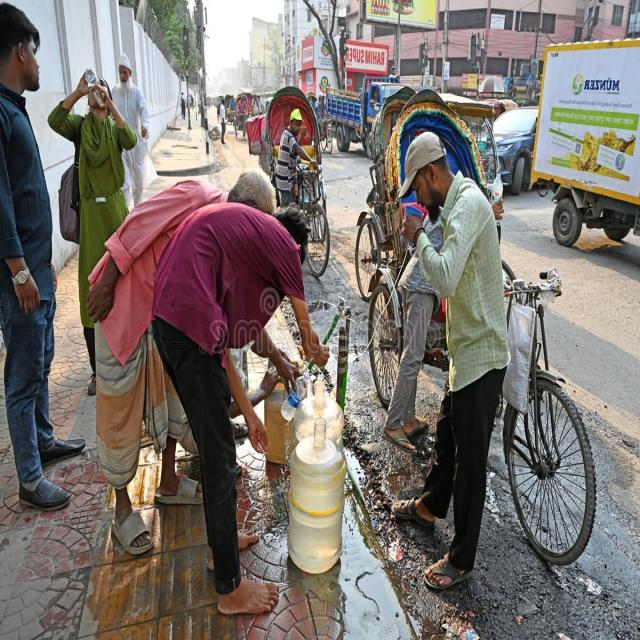Car: (475, 78, 568, 229)
Pick-Up Truck: (519, 24, 640, 273)
Rickshaw: (344, 93, 611, 577), (248, 56, 351, 293)
Truck: (308, 63, 416, 176)
